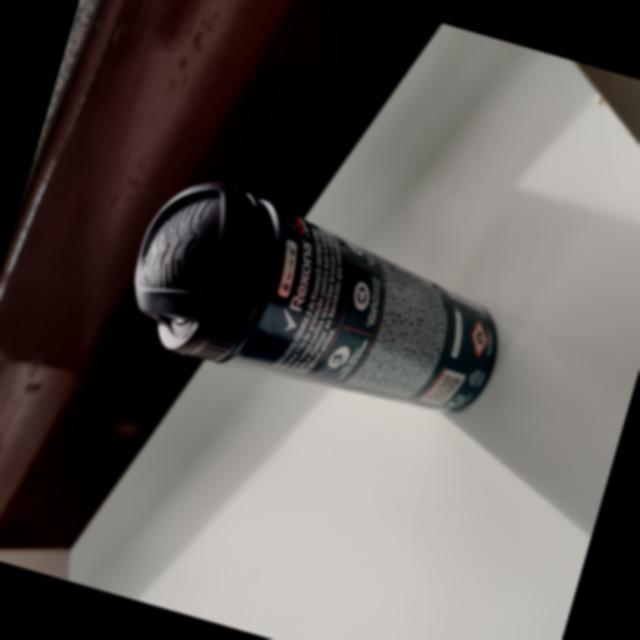Desodorante Azul: (134, 182, 496, 411)
